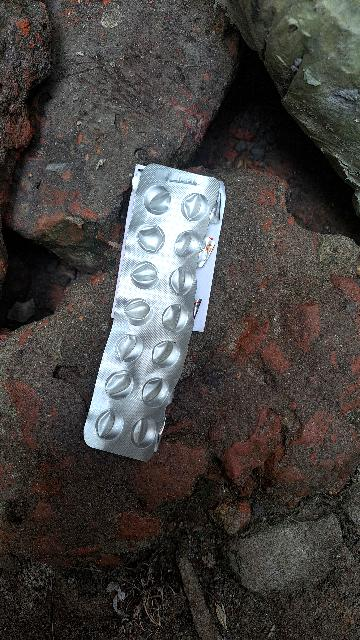medicine: (81, 148, 223, 462)
